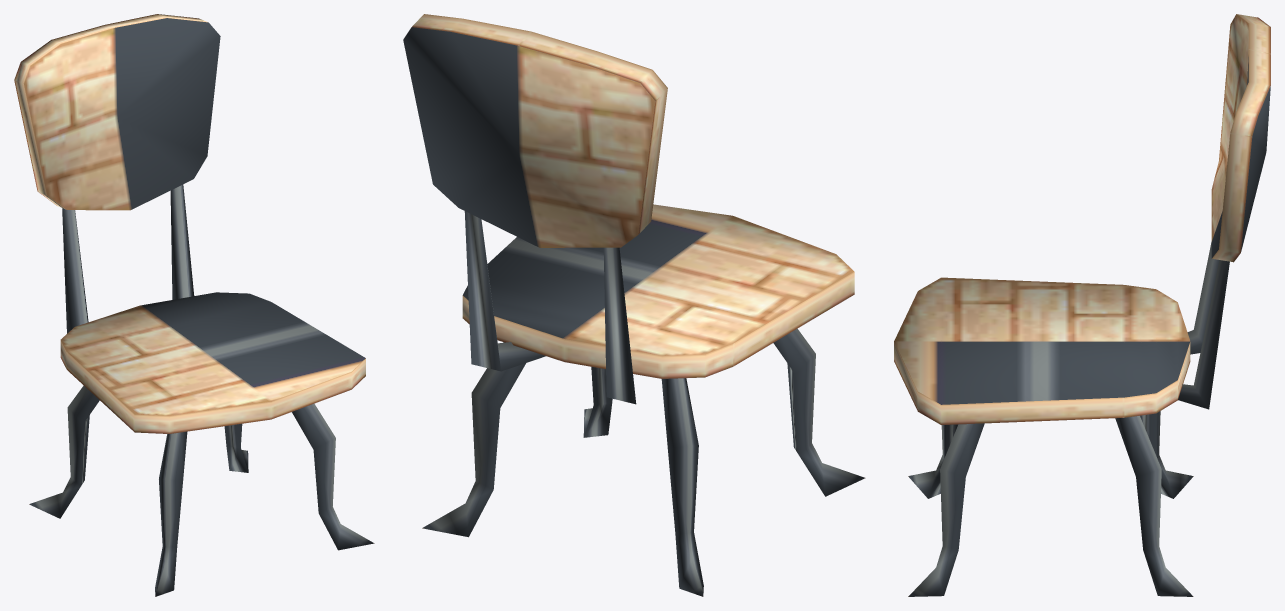
The model's file is int_pin_chairS.dae.
3 views of the same model, side by side, from view 1: azimuth 30°, elevation 25°; view 2: azimuth 150°, elevation 25°; view 3: azimuth 270°, elevation 25° (orthographic). The views are drawn at different scales.
Parts seen in each view (by area): view 1: int_pin_chairS; view 2: int_pin_chairS; view 3: int_pin_chairS.
Part boxes in pixels (<box>): int_pin_chairS: <box>14,14,374,596</box>; int_pin_chairS: <box>403,14,865,596</box>; int_pin_chairS: <box>894,14,1270,596</box>.
Bounding box in the file's own units: 21.52 × 39 × 26.91.
1 material, 1 textured.
